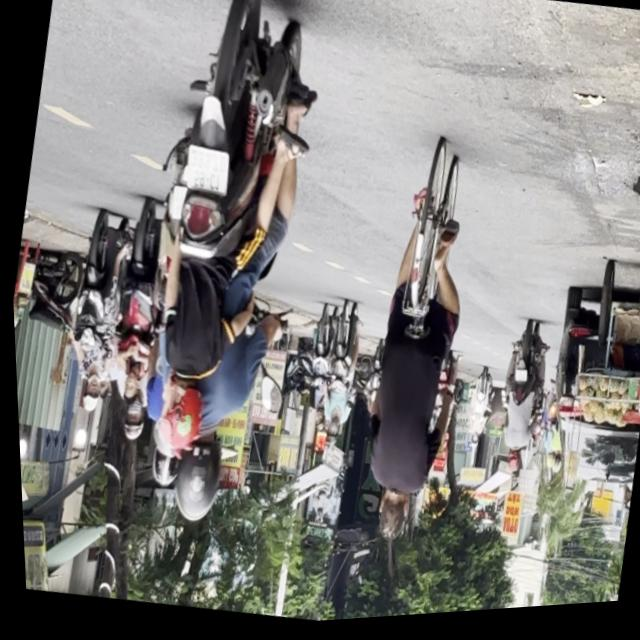helmet: (158, 427, 224, 529), (143, 373, 206, 461), (140, 442, 174, 490), (113, 397, 143, 444), (73, 374, 99, 415)
licenseplate: (90, 0, 351, 542), (81, 196, 181, 451), (47, 204, 137, 419)
motorcyclist: (114, 364, 141, 408)
nohelmet: (179, 147, 228, 197)
